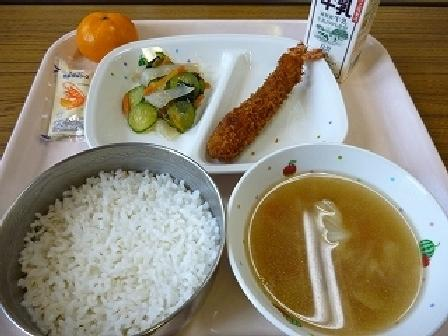Citrus: (73, 3, 141, 61)
Milk: (303, 0, 376, 73)
Rice: (1, 141, 214, 328)
Salad: (118, 52, 210, 132)
Soups: (238, 156, 434, 331)
seafood: (209, 34, 319, 165)
